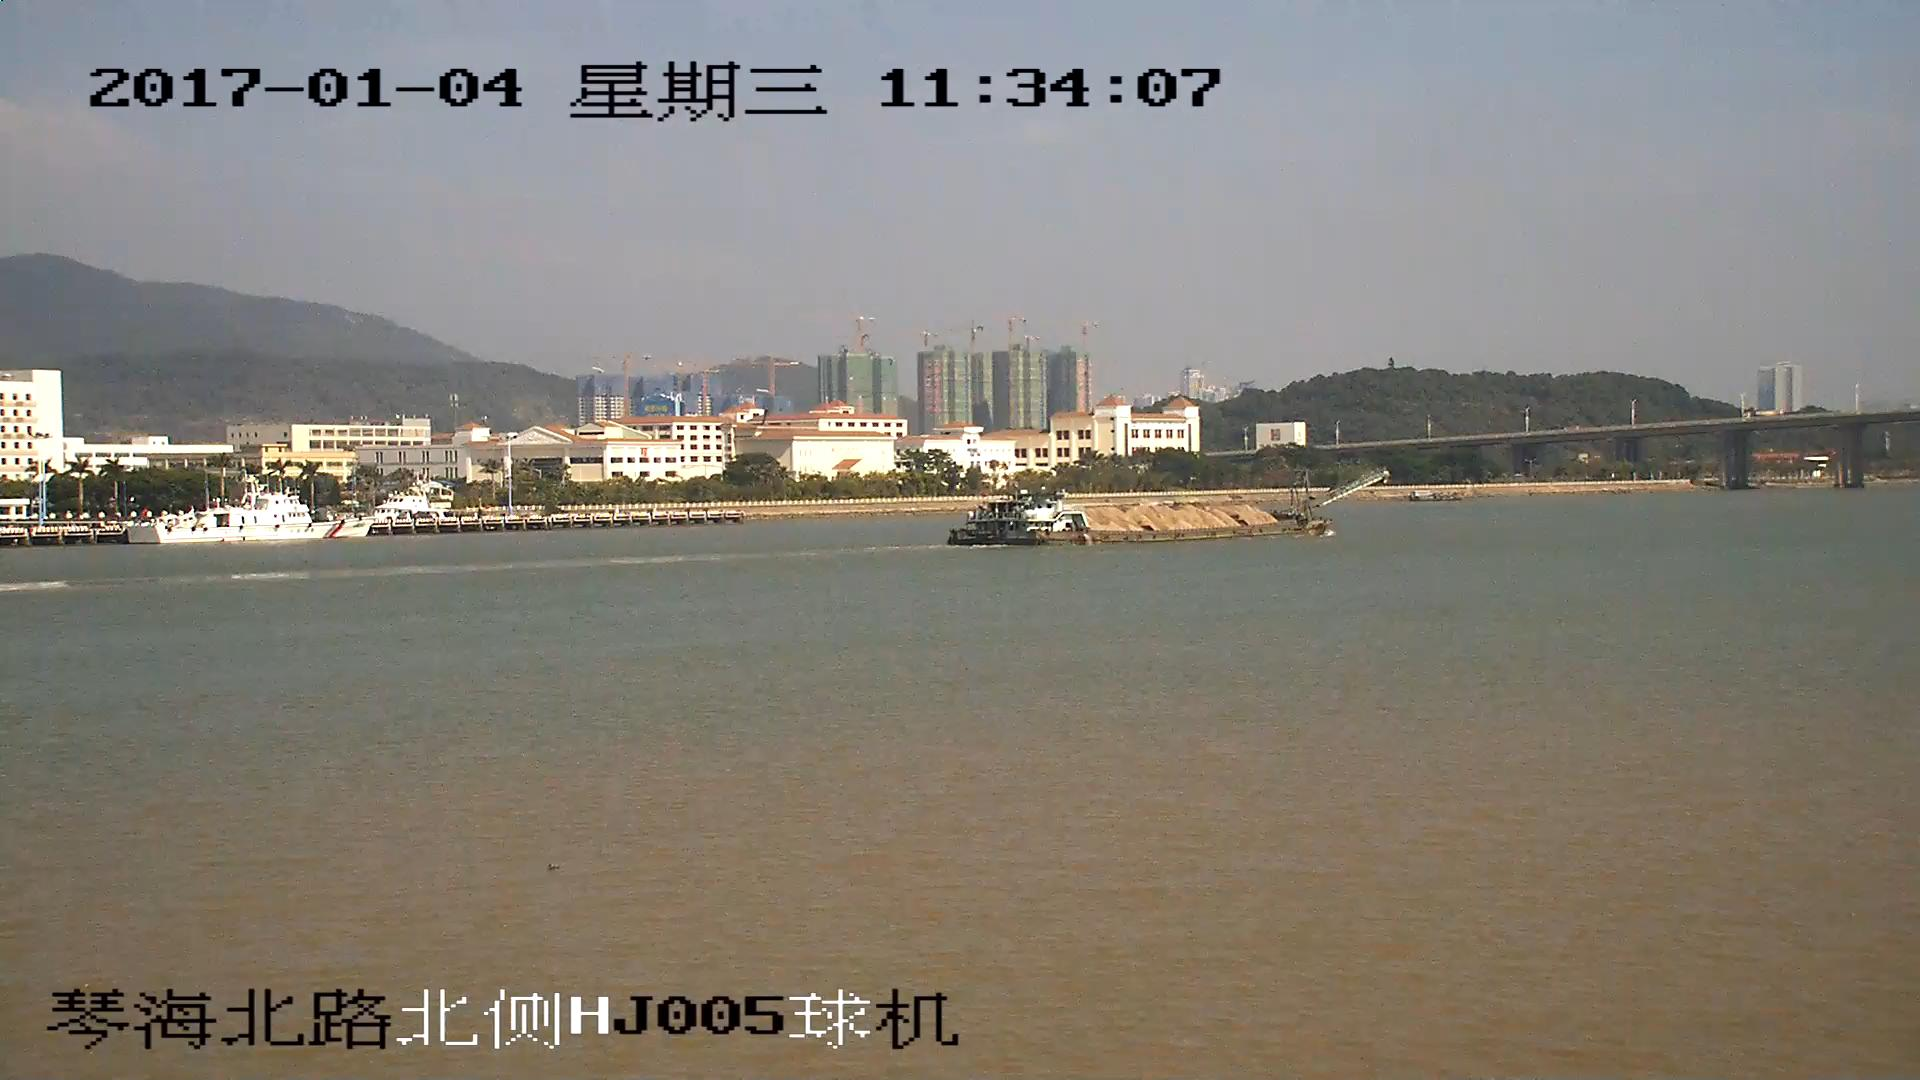ore carrier: (949, 472, 1378, 543)
